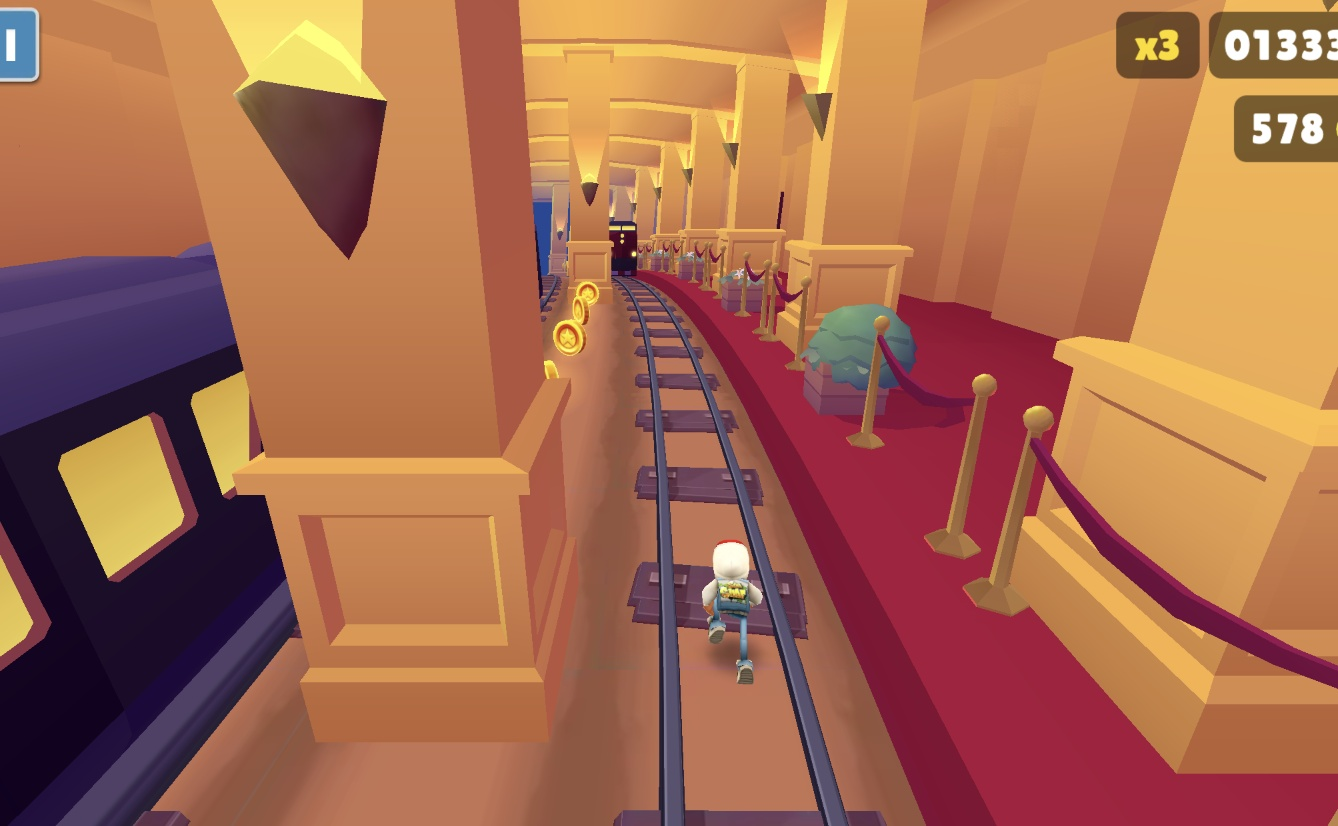pillar: (72, 0, 562, 746), (567, 107, 612, 307)
train: (0, 230, 270, 826), (609, 212, 642, 284)
